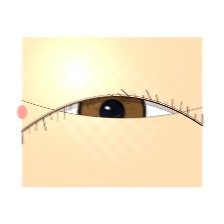hemorrhage_spot: (67, 99, 139, 156)
